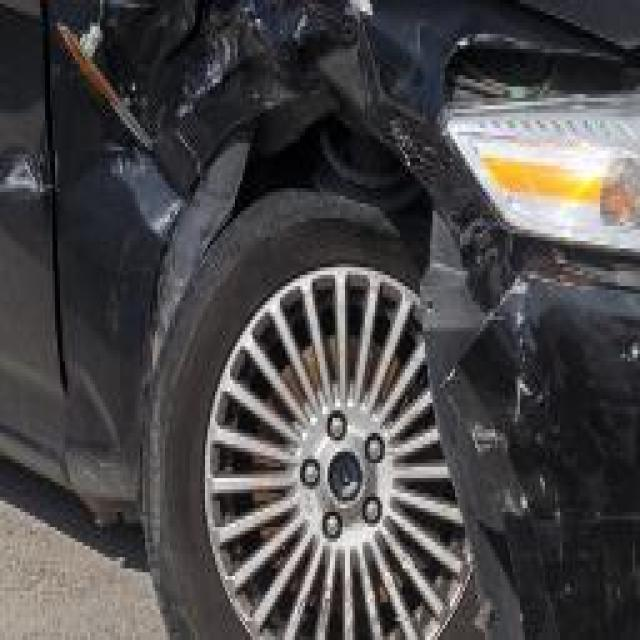Bumper: (432, 260, 640, 640)
Fender: (58, 4, 478, 339)
Light: (452, 56, 640, 271)
